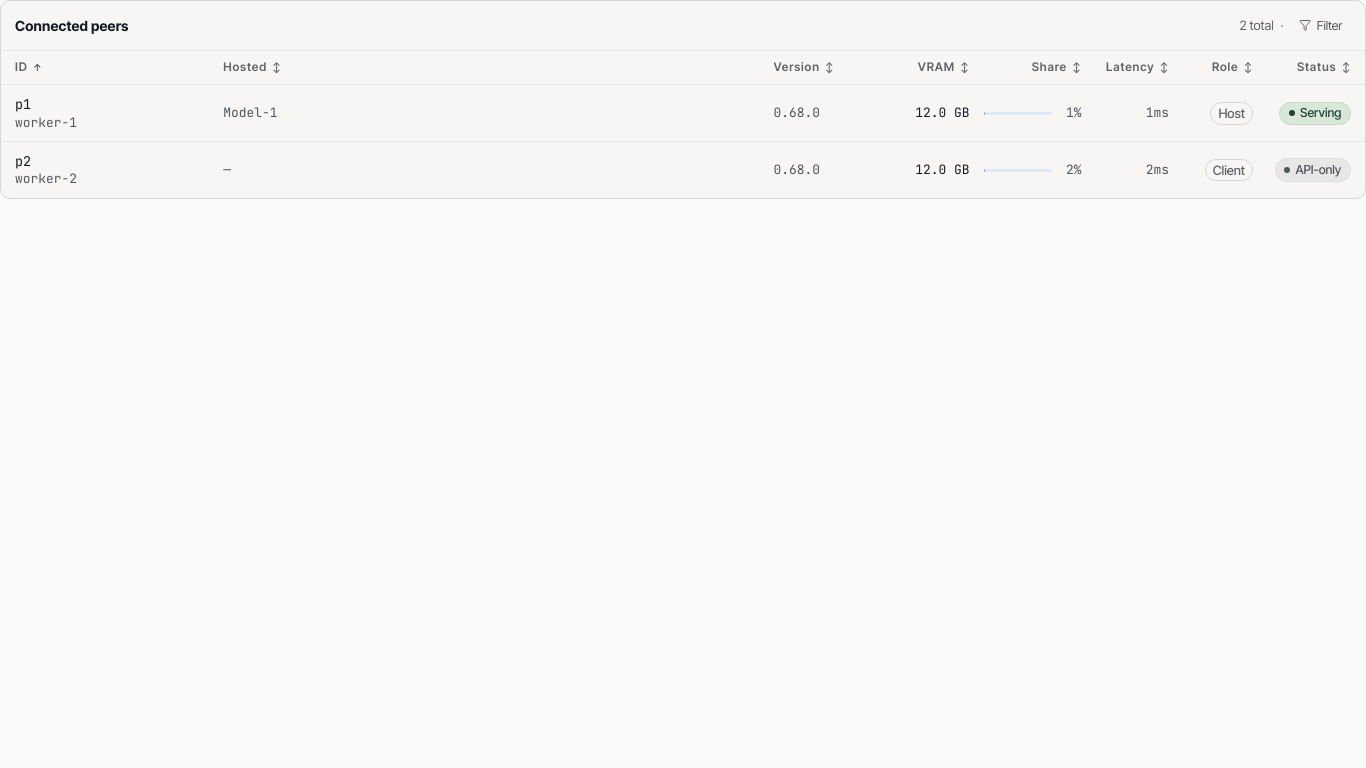
Scenario: PeersTable › keeps the filter popover click-toggleable and provides a clear no-results state
What coordinates should you click on to do the following:
click the button with aria-label "Filter peers"
I would click on:
 (1321, 26)
Its box is [1290,12,1351,40].
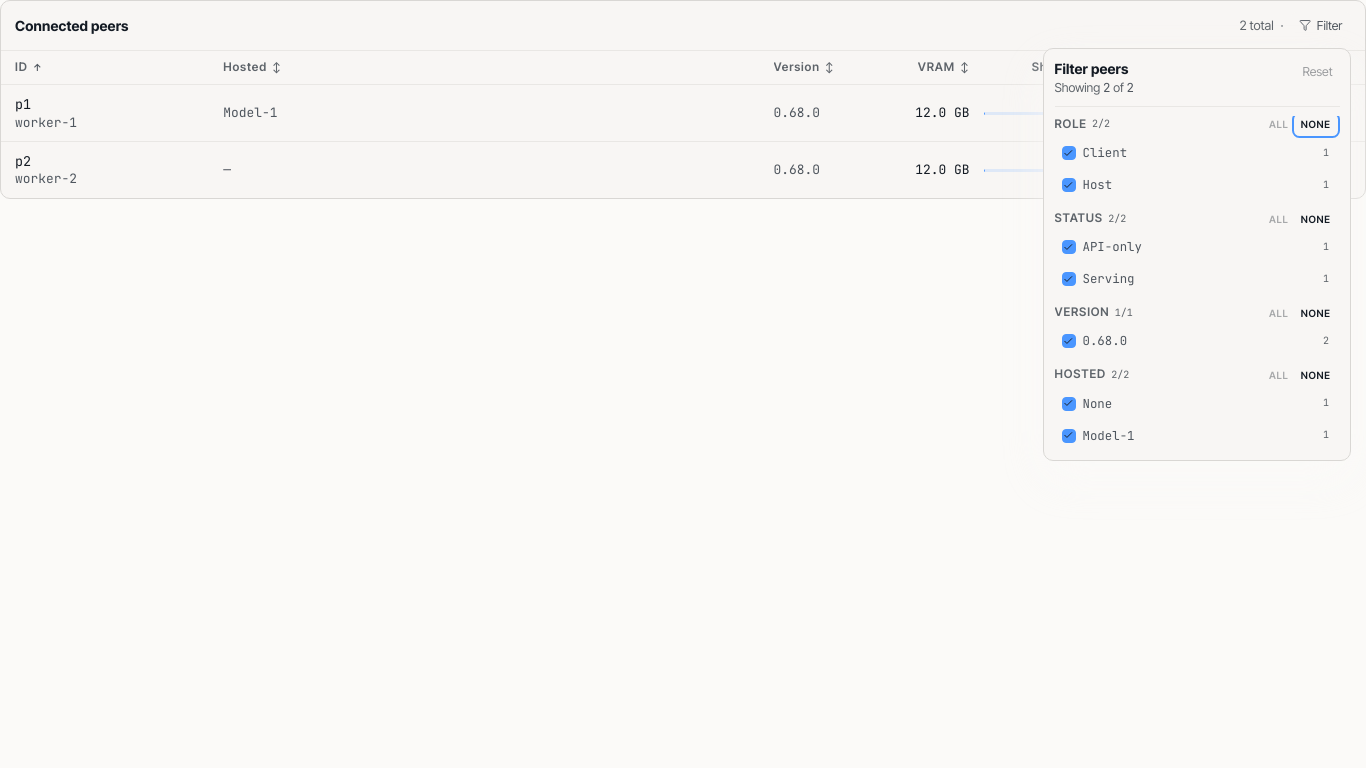
Expected: the dialog named "Filter connected peers" is shown, [1043,48,1351,461]
What coordinates should you click on to do the following:
click the button with aria-label "Filter peers"
I would click on:
 (1321, 26)
Its box is [1290,12,1351,40].
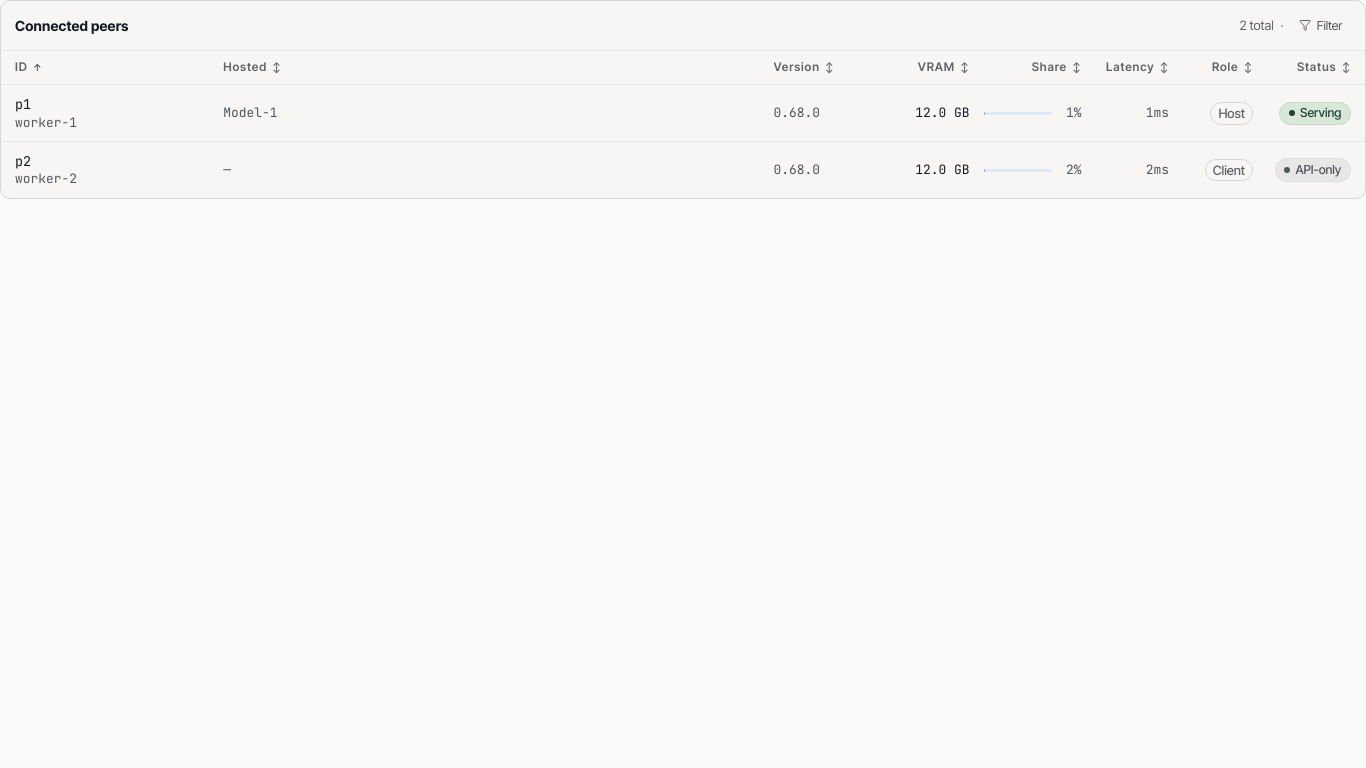
What coordinates should you click on to do the following:
click the button with aria-label "Filter peers"
I would click on:
 (1321, 26)
Its box is [1290,12,1351,40].
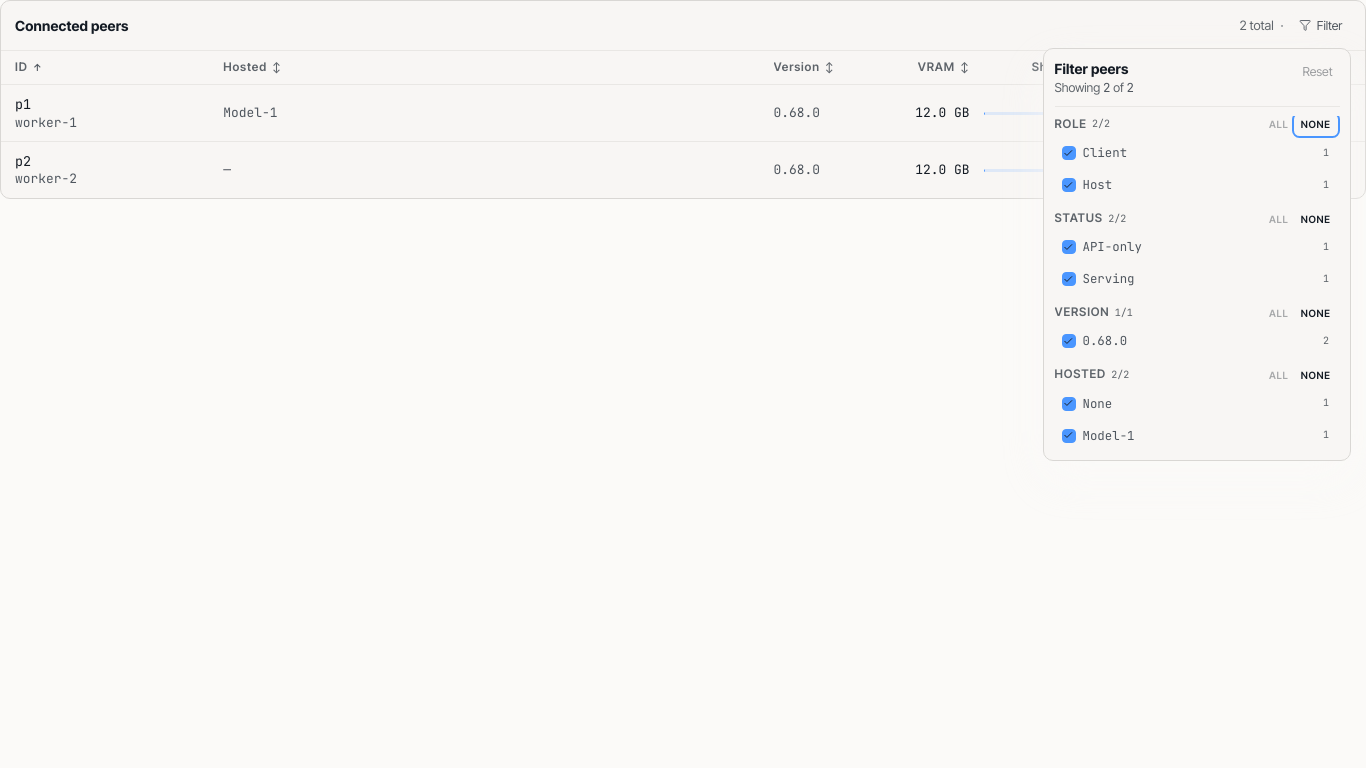
What coordinates should you click on to do the following:
click the checkbox named "Host, 1 peers"
I would click on:
 (1068, 185)
Its box is [1062,176,1329,193].
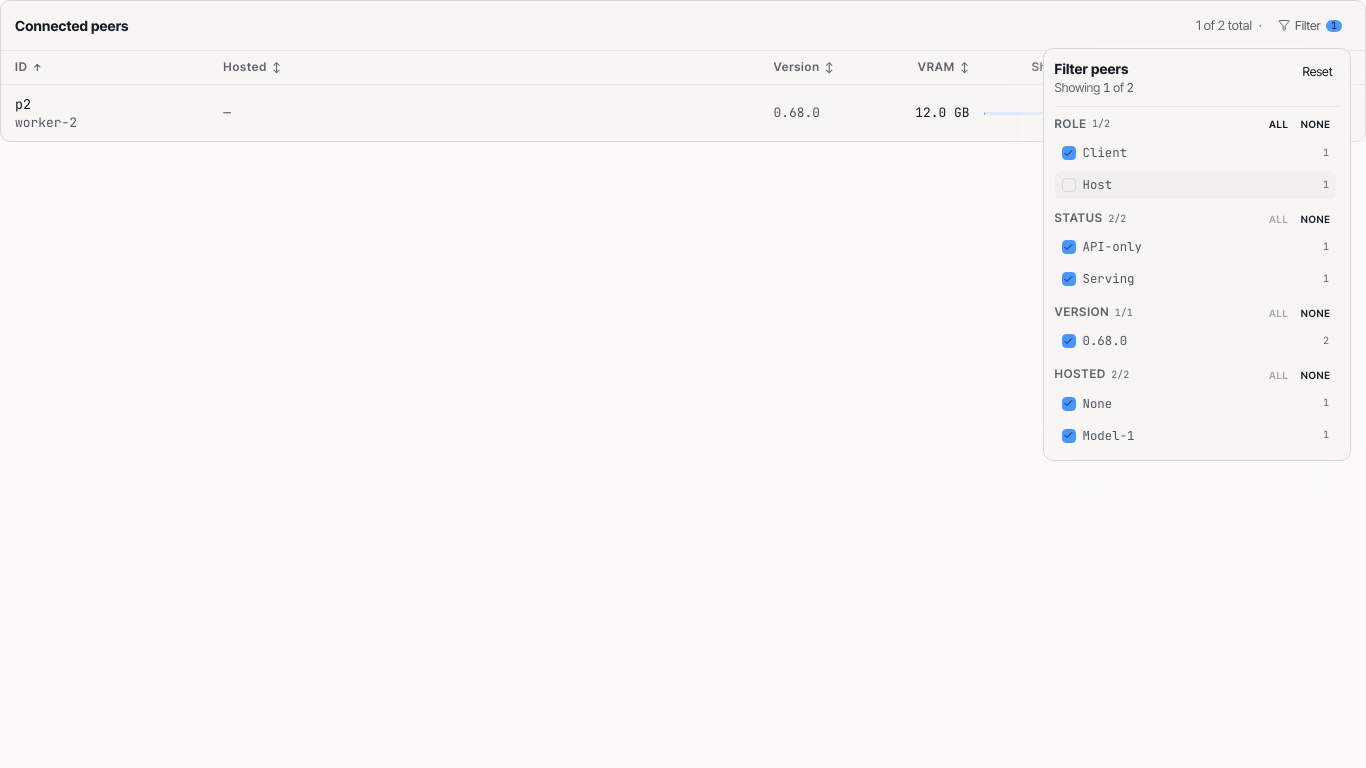
What coordinates should you click on to do the following:
click the checkbox named "Client, 1 peers"
I would click on:
 (1105, 153)
Its box is [1062,144,1329,161].
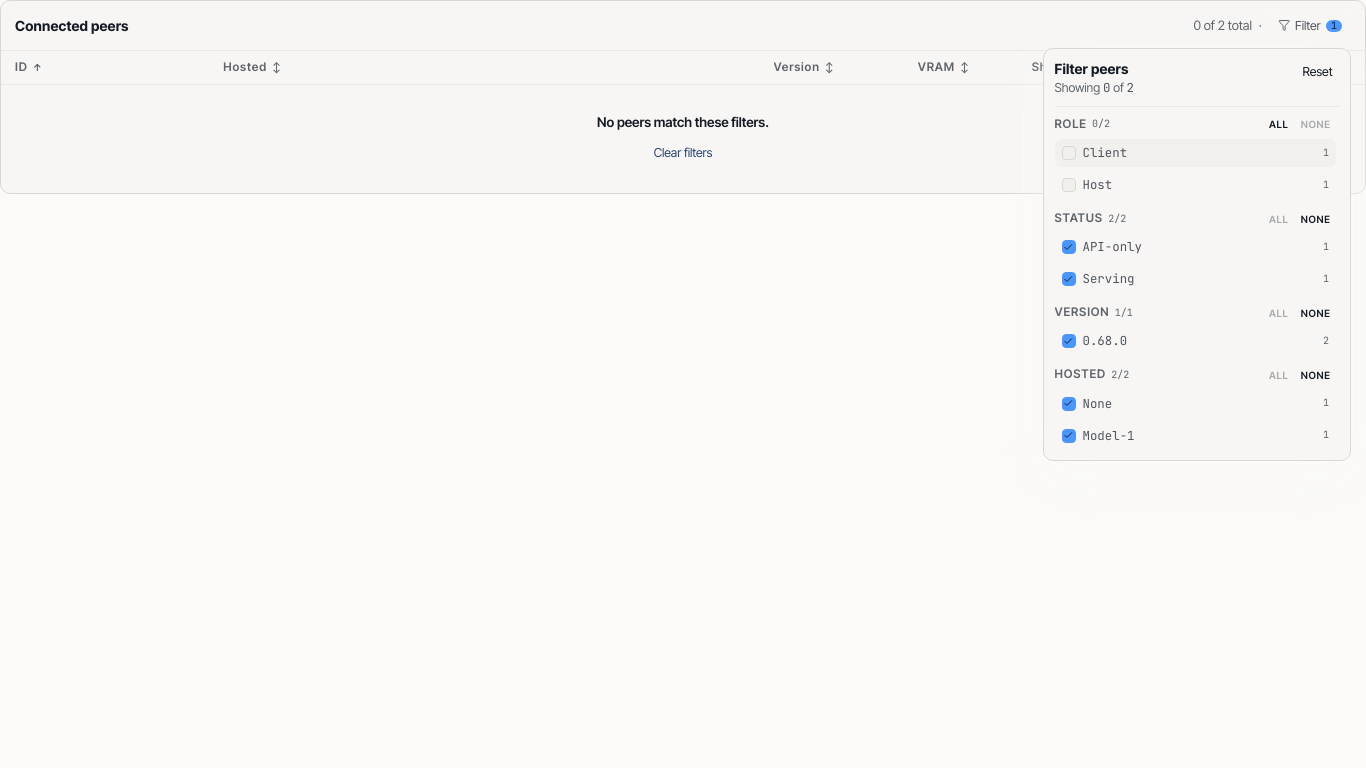
Expected: the text "No peers match these filters." is shown, [597,114,769,130]
What coordinates should you click on to do the following:
click the button "Clear filters"
I would click on:
 (683, 152)
Its box is [647,140,719,165].
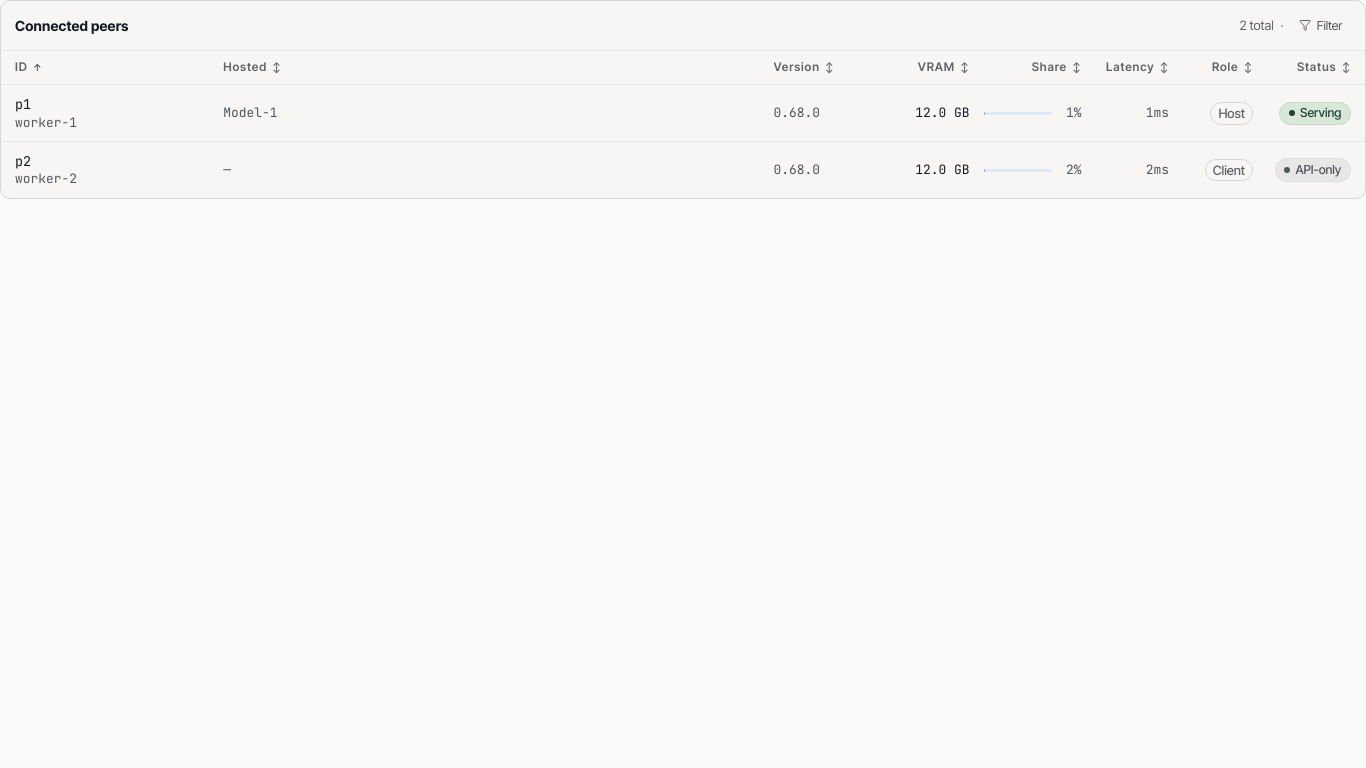
Expected: the button named "View worker-1 node, peer ID peer-1" is shown, [1,86,1365,142]
Expected: the button named "View worker-2 node, peer ID peer-2" is shown, [1,142,1365,198]
